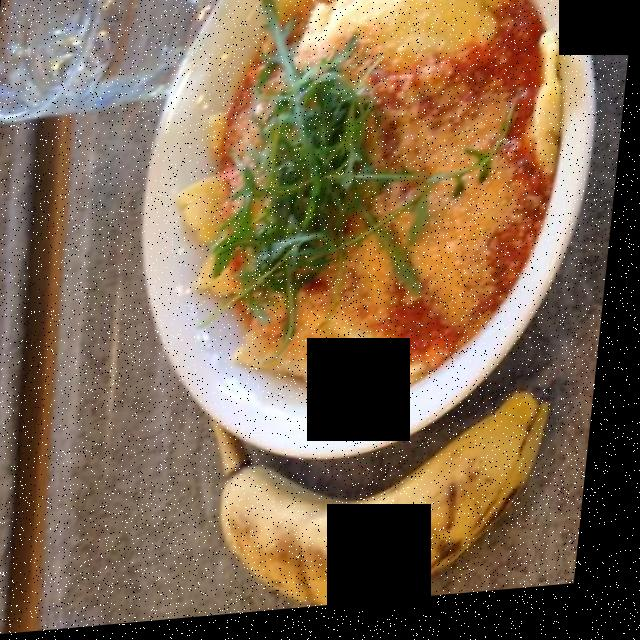banana: (233, 411, 546, 606)
parmesan: (269, 64, 529, 390)
salad-rocket: (210, 0, 436, 355)
tomato-sauce: (319, 12, 548, 382)
